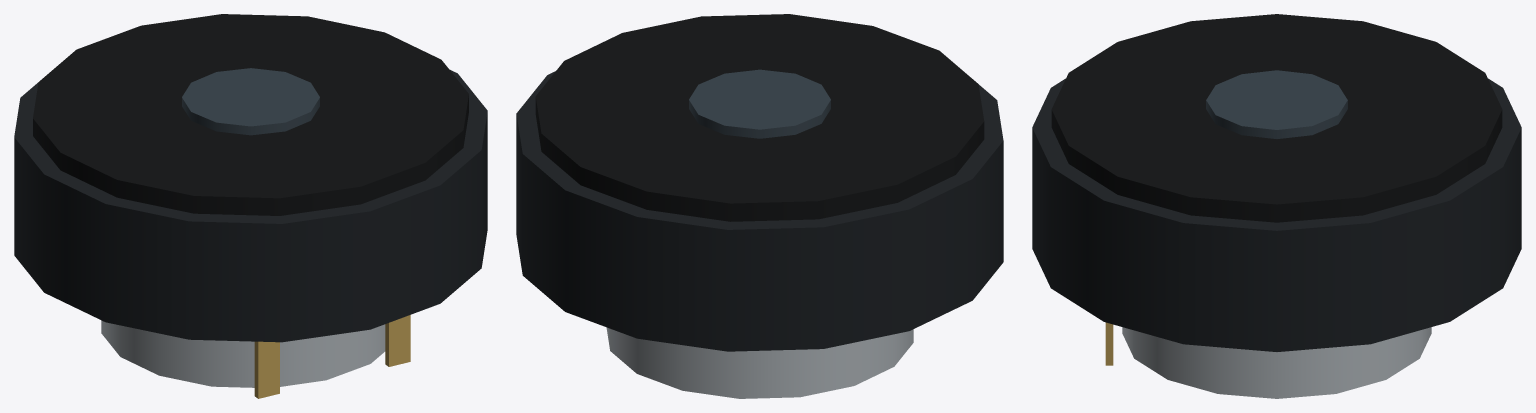
The model's file is cmp-speaker.glb.
3 views of the same model, side by side, from view 1: azimuth 30°, elevation 25°; view 2: azimuth 150°, elevation 25°; view 3: azimuth 270°, elevation 25° (orthographic). The views are drawn at different scales.
Visible parts, largest first — view 1: STATIC_paint, STATIC_metal; view 2: STATIC_paint, STATIC_metal; view 3: STATIC_paint, STATIC_metal.
Part boxes in pixels (x1=…): STATIC_paint: x1=14, y1=14, x2=487, y2=342; STATIC_metal: x1=101, y1=315, x2=410, y2=398; STATIC_paint: x1=516, y1=14, x2=1003, y2=351; STATIC_metal: x1=606, y1=327, x2=913, y2=398; STATIC_paint: x1=1032, y1=14, x2=1521, y2=351; STATIC_metal: x1=1105, y1=322, x2=1431, y2=398.
Size of the model in its own units: 0.038 by 0.02 by 0.038.
